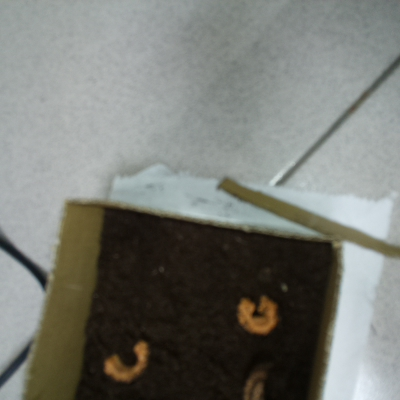eggs: (97, 335, 157, 387), (230, 288, 283, 341), (240, 361, 275, 400)
